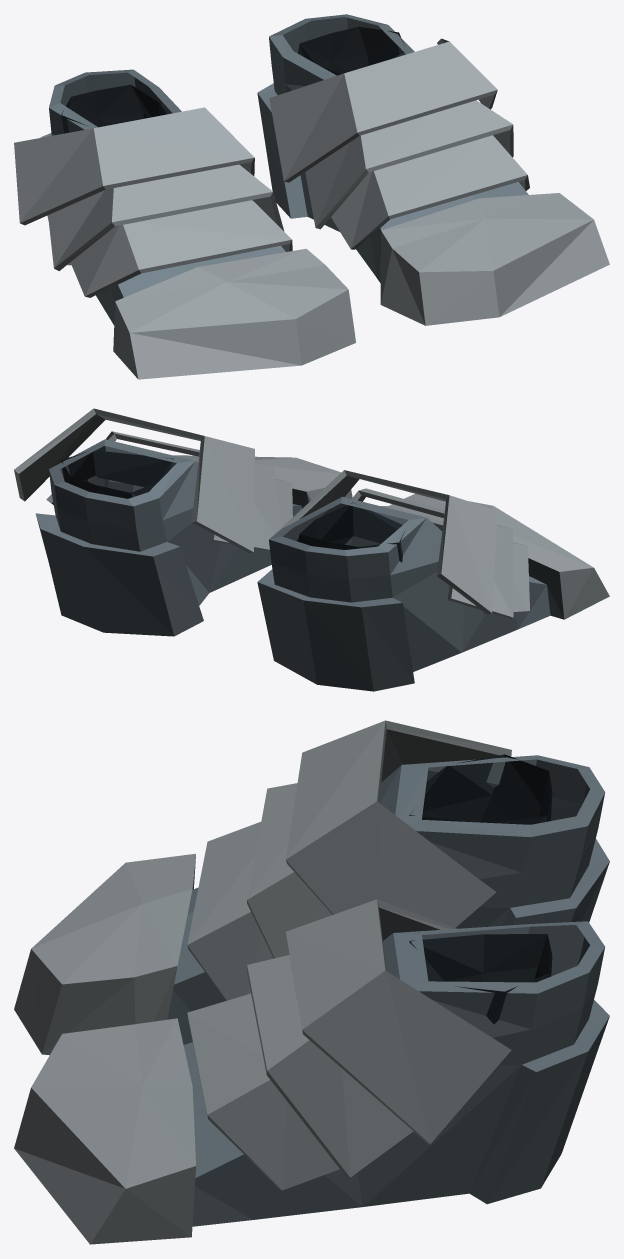
The model's file is iron_feet.glb.
3 views of the same model, one above another, from view 1: azimuth 30°, elevation 25°; view 2: azimuth 150°, elevation 25°; view 3: azimuth 270°, elevation 25° (orthographic). The views are drawn at different scales.
Visible parts, largest first — view 1: iron_feet; view 2: iron_feet; view 3: iron_feet.
Boxes of the visible parts, <box> form: iron_feet: <box>14,14,609,379</box>; iron_feet: <box>14,408,609,691</box>; iron_feet: <box>14,720,609,1244</box>.
Bounding box in the file's own units: 1 × 0.3281 × 0.7591.
